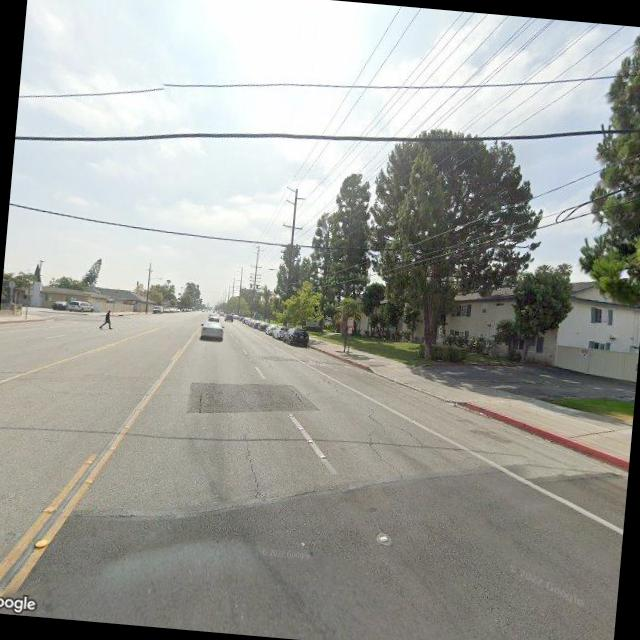pothole: (359, 410, 414, 480), (236, 434, 267, 502), (284, 383, 308, 409)
